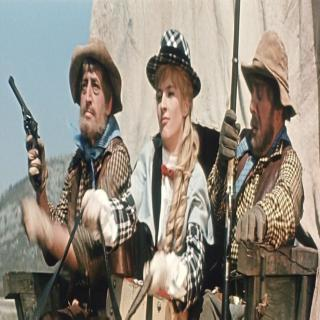gun: (4, 70, 55, 196)
